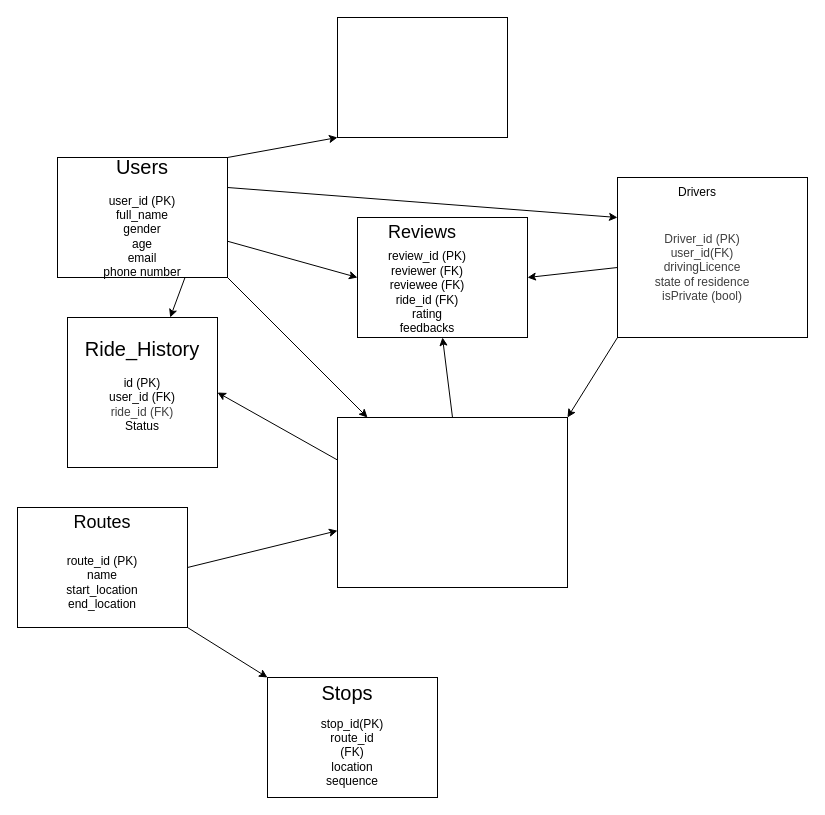
Image size: 825x815. Some labels were removed from this diagram. Here are the shapes that lost their labels. From the top down, the centre of each, then its label:
At [422,77]: "Vehicles license_plate (PK) user_id (FK) type capacity".
At [452,502]: "Rides ride_id (PK) driver_id (FK) route_id (FK) departure_time payment_id amount".
